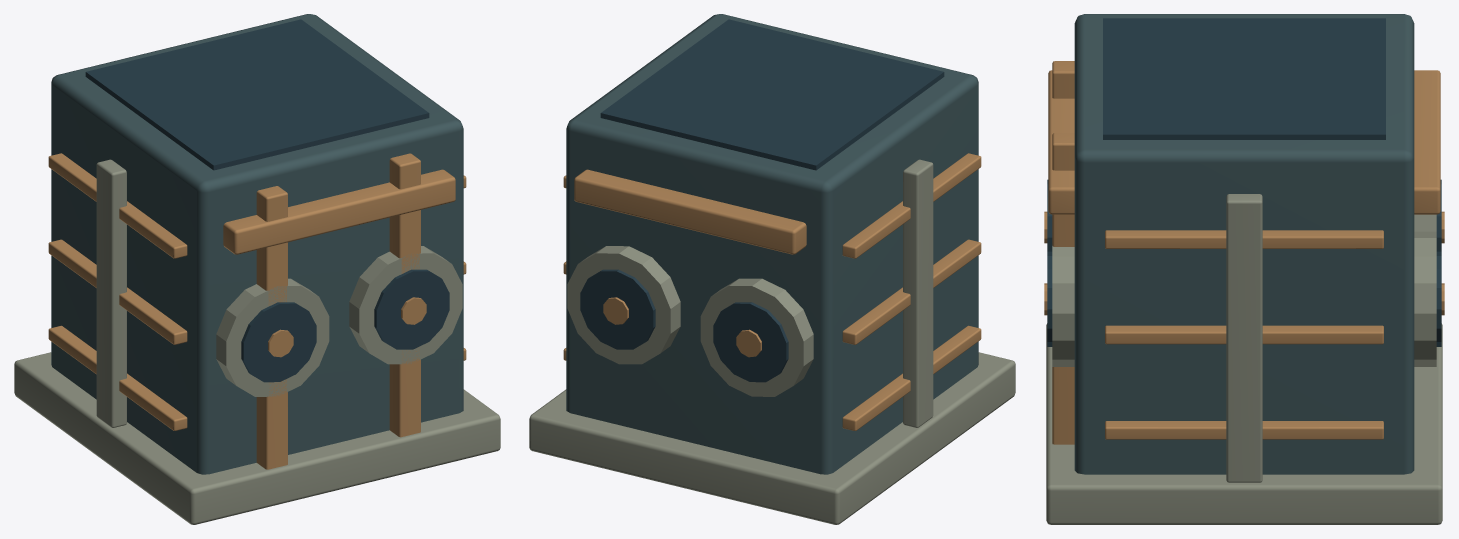
Rendered from pump-base-1.glb.
3 views of the same model, side by side, from view 1: azimuth 30°, elevation 25°; view 2: azimuth 150°, elevation 25°; view 3: azimuth 270°, elevation 25° (orthographic). The views are drawn at different scales.
Visible parts, largest first — view 1: pump_0, pump_1, pump_2, pump_3; view 2: pump_0, pump_1, pump_2, pump_3; view 3: pump_0, pump_1, pump_2, pump_3.
Part boxes in pixels (bbox=[...]): pump_0: bbox=[51, 14, 463, 474]; pump_1: bbox=[14, 159, 500, 524]; pump_2: bbox=[85, 19, 449, 382]; pump_3: bbox=[48, 153, 466, 469]; pump_0: bbox=[566, 14, 978, 474]; pump_1: bbox=[529, 159, 1015, 524]; pump_2: bbox=[580, 19, 944, 382]; pump_3: bbox=[563, 153, 981, 430]; pump_0: bbox=[1074, 14, 1414, 474]; pump_1: bbox=[1046, 194, 1442, 524]; pump_2: bbox=[1047, 18, 1441, 346]; pump_3: bbox=[1044, 61, 1444, 444].
Size of the model in its own units: 0.98 by 1 by 0.99.
